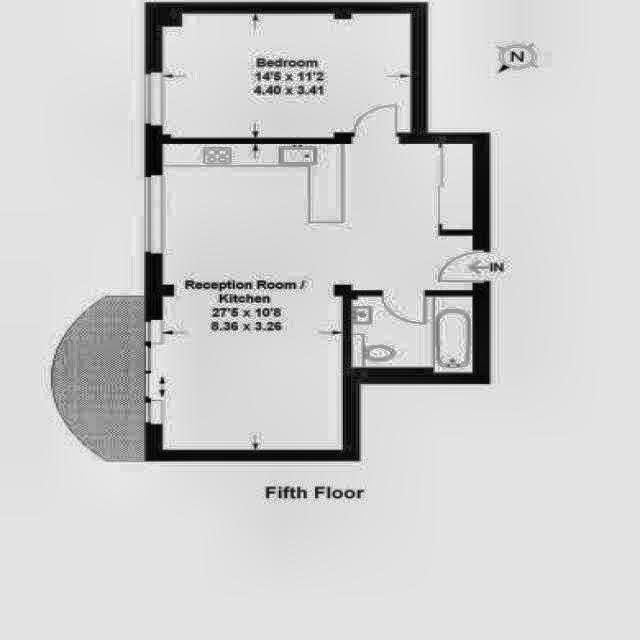room: (150, 144, 472, 450), (162, 13, 412, 139), (351, 295, 473, 374)
